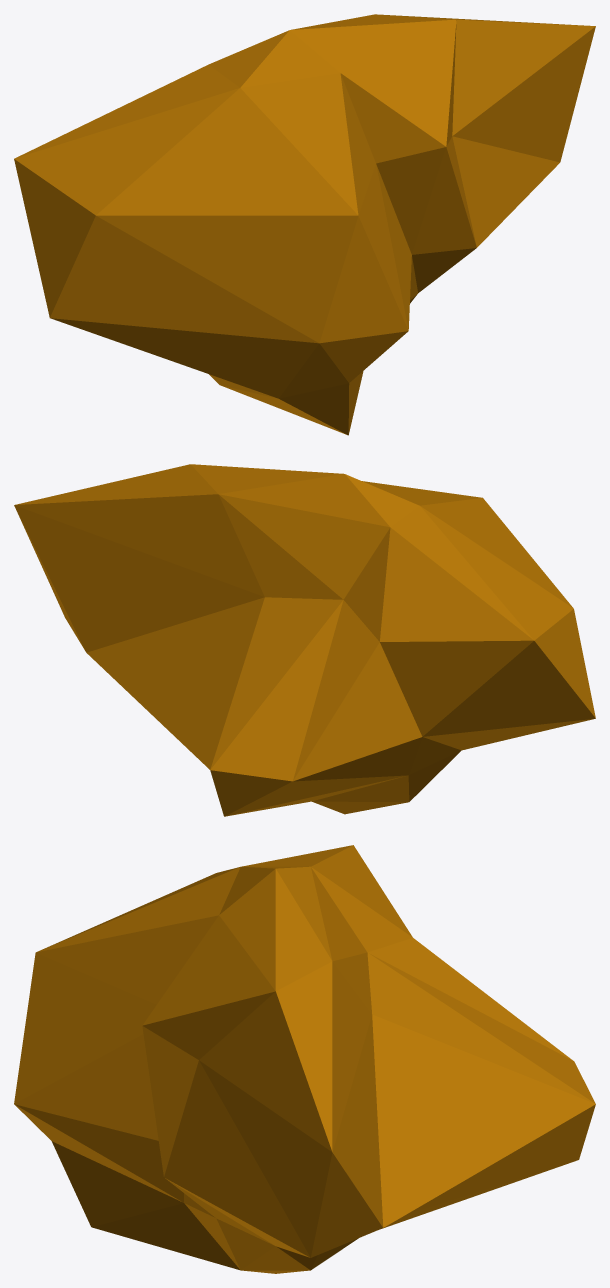
The model's file is baux.glb.
3 views of the same model, one above another, from view 1: azimuth 30°, elevation 25°; view 2: azimuth 150°, elevation 25°; view 3: azimuth 270°, elevation 25° (orthographic). The views are drawn at different scales.
Visible parts, largest first — view 1: Icosphere; view 2: Icosphere; view 3: Icosphere.
Boxes of the visible parts, box(x1,y1,x2,y2) form: Icosphere: box(14, 14, 595, 435); Icosphere: box(14, 464, 595, 816); Icosphere: box(14, 845, 595, 1273).
Bounding box in the file's own units: 0.5012 × 0.3001 × 0.3905.
